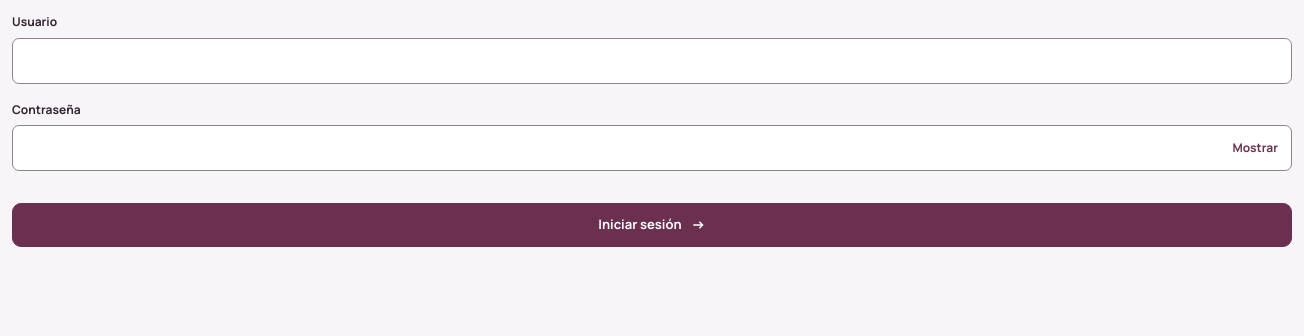
FormularioIngreso › espera el tiempo de Retry-After antes de permitir otro intento
The width and height of the screenshot is (1304, 336).
Type "lucia.vega" into the field labelled "Usuario". click: (652, 60)
box: [12,38,1292,84]
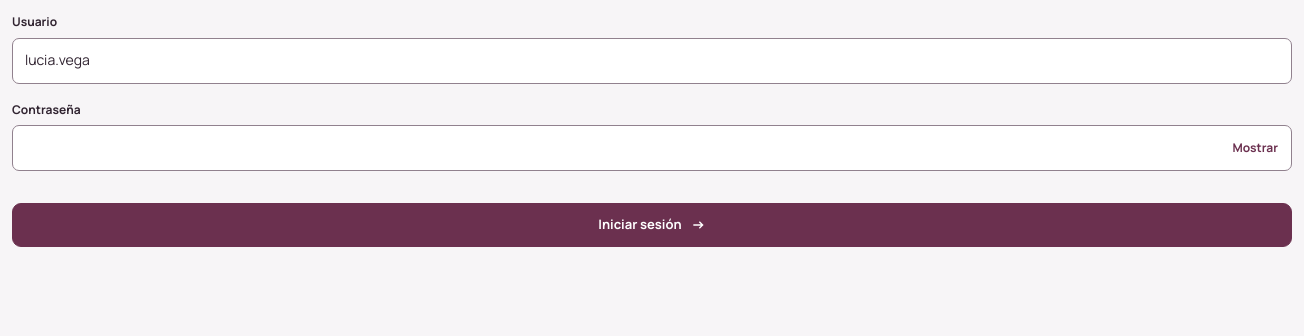
Type "Secreta-2026" into the password field labelled "Contraseña". click: (652, 148)
box: [12,125,1292,171]
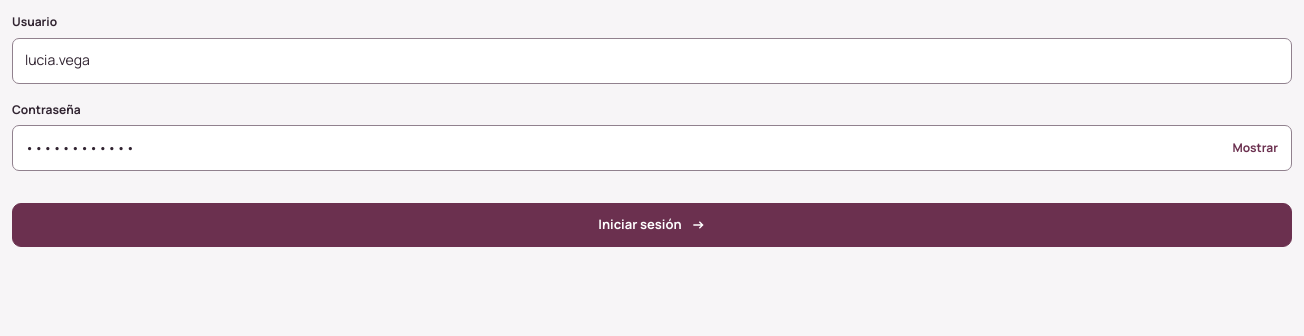
Submit the form
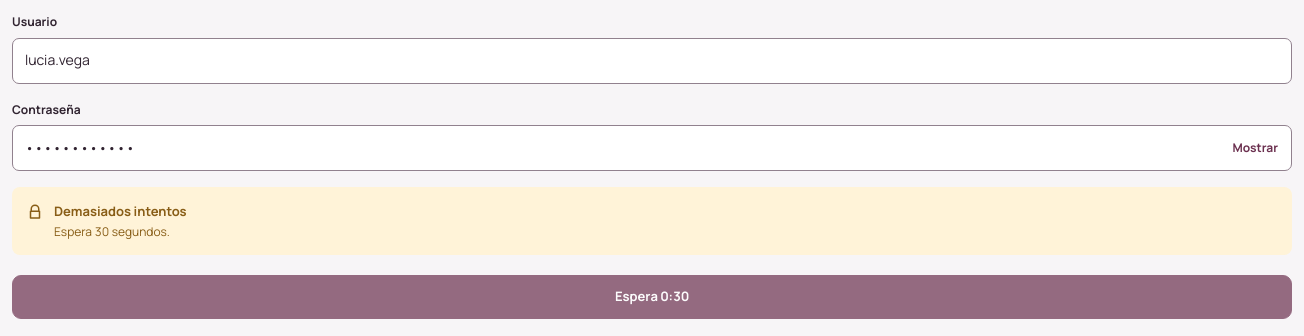
Expected: the submit button reads "Espera 0:30", [12,275,1292,319]
Expected: the submit button is disabled, [12,275,1292,319]
